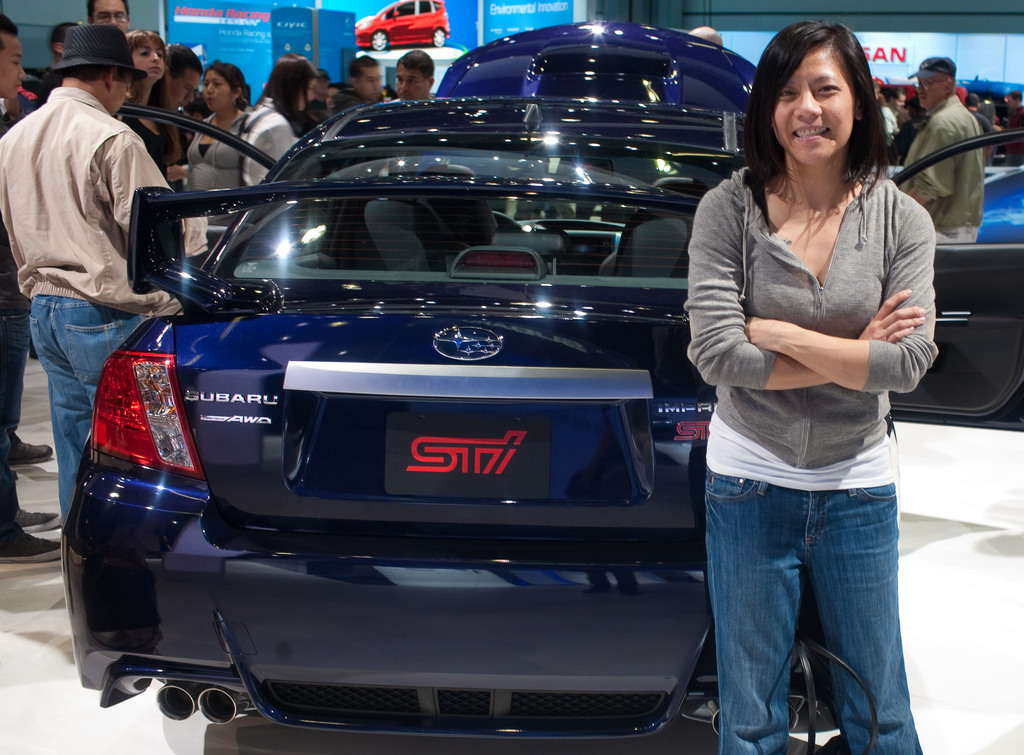Car: (59, 62, 869, 744)
